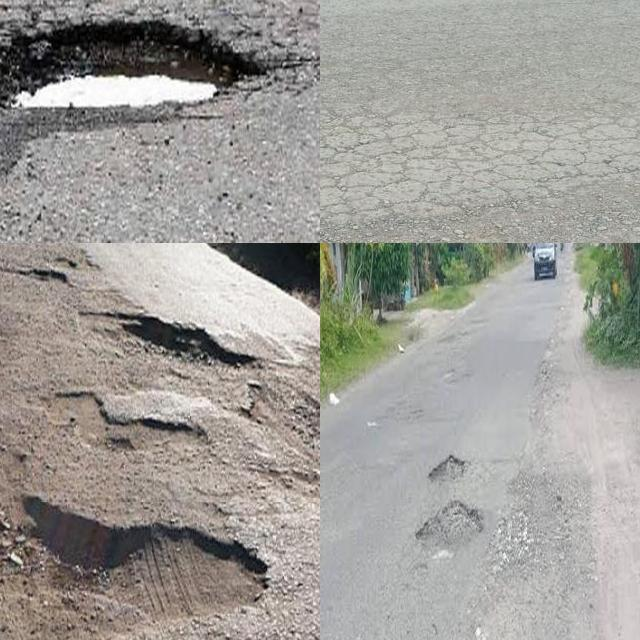Lubang: (0, 498, 262, 626), (0, 14, 277, 105), (40, 390, 208, 452), (84, 311, 241, 374), (249, 380, 320, 460), (417, 509, 477, 541), (425, 455, 469, 481)
Retak Buaya: (320, 116, 640, 224)
